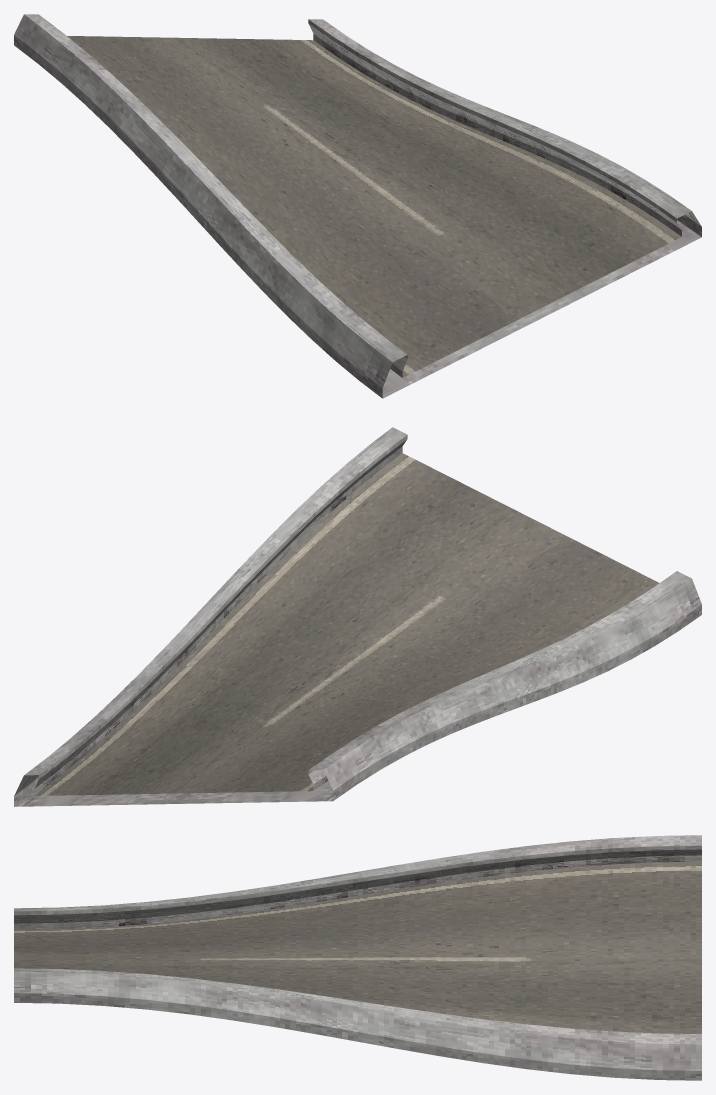
Rendered from road-Straight-HalfBankedLeft-HalfBankedRight-Even-Center-Size2.glb.
3 renders of one model, top to bottom at view 1: azimuth 30°, elevation 25°; view 2: azimuth 150°, elevation 25°; view 3: azimuth 270°, elevation 25°, orthographic. The views are drawn at different scales.
Parts seen in each view (by area): view 1: road-Straight-HalfBankedLeft-HalfBankedRight-Even-Center-Siz; view 2: road-Straight-HalfBankedLeft-HalfBankedRight-Even-Center-Siz; view 3: road-Straight-HalfBankedLeft-HalfBankedRight-Even-Center-Siz.
Part boxes in pixels (x1=…): road-Straight-HalfBankedLeft-HalfBankedRight-Even-Center-Siz: x1=14, y1=14, x2=701, y2=398; road-Straight-HalfBankedLeft-HalfBankedRight-Even-Center-Siz: x1=14, y1=427, x2=701, y2=806; road-Straight-HalfBankedLeft-HalfBankedRight-Even-Center-Siz: x1=14, y1=835, x2=701, y2=1080.
Size of the model in its own units: 1 by 0.3359 by 2.
Materials: 2 (2 with a texture image).
